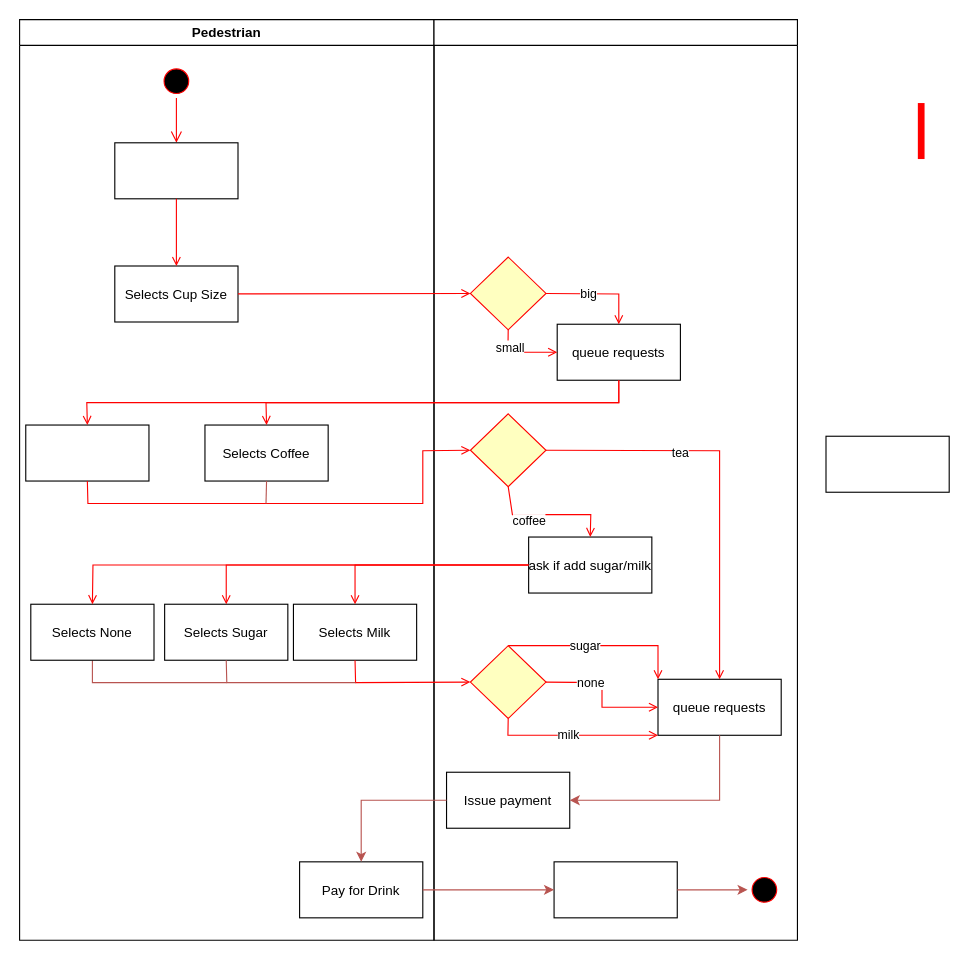
Some shapes in this 969 by 960 pixel diagram are drawn without their labels. Each missing label, with the box of its shape:
command queue: (825, 435, 949, 492)
Issue Receipt: (553, 861, 677, 918)
Press Start Button: (114, 142, 238, 199)
Selects Tea: (25, 424, 149, 481)
Vending Machine: (433, 18, 797, 940)
